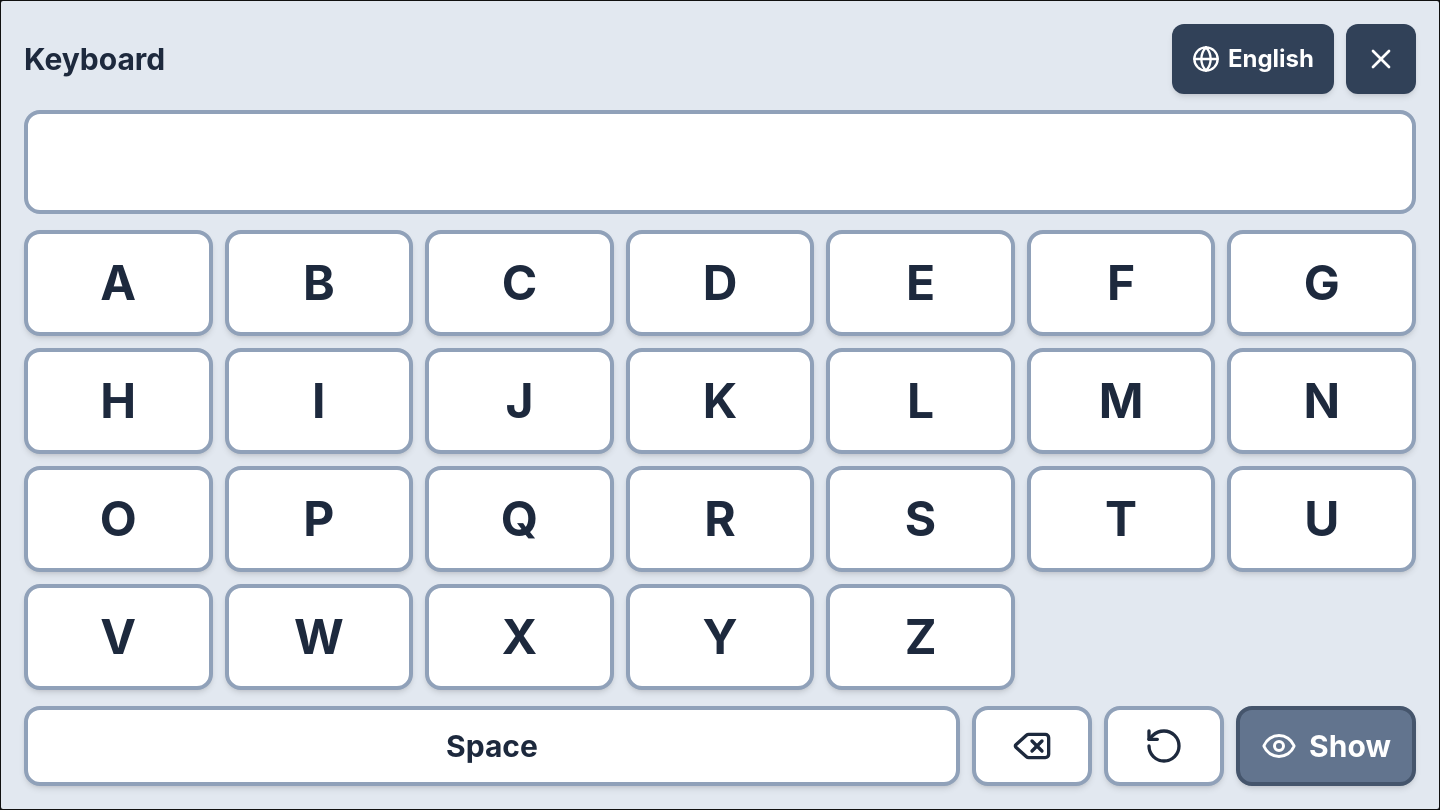
KeyboardScreen – User Story 3: language switcher › switching language replaces the grid and preserves typed text
This screenshot has width=1440, height=810.
Click the button "H" at (118, 401), box [24,348,213,454]
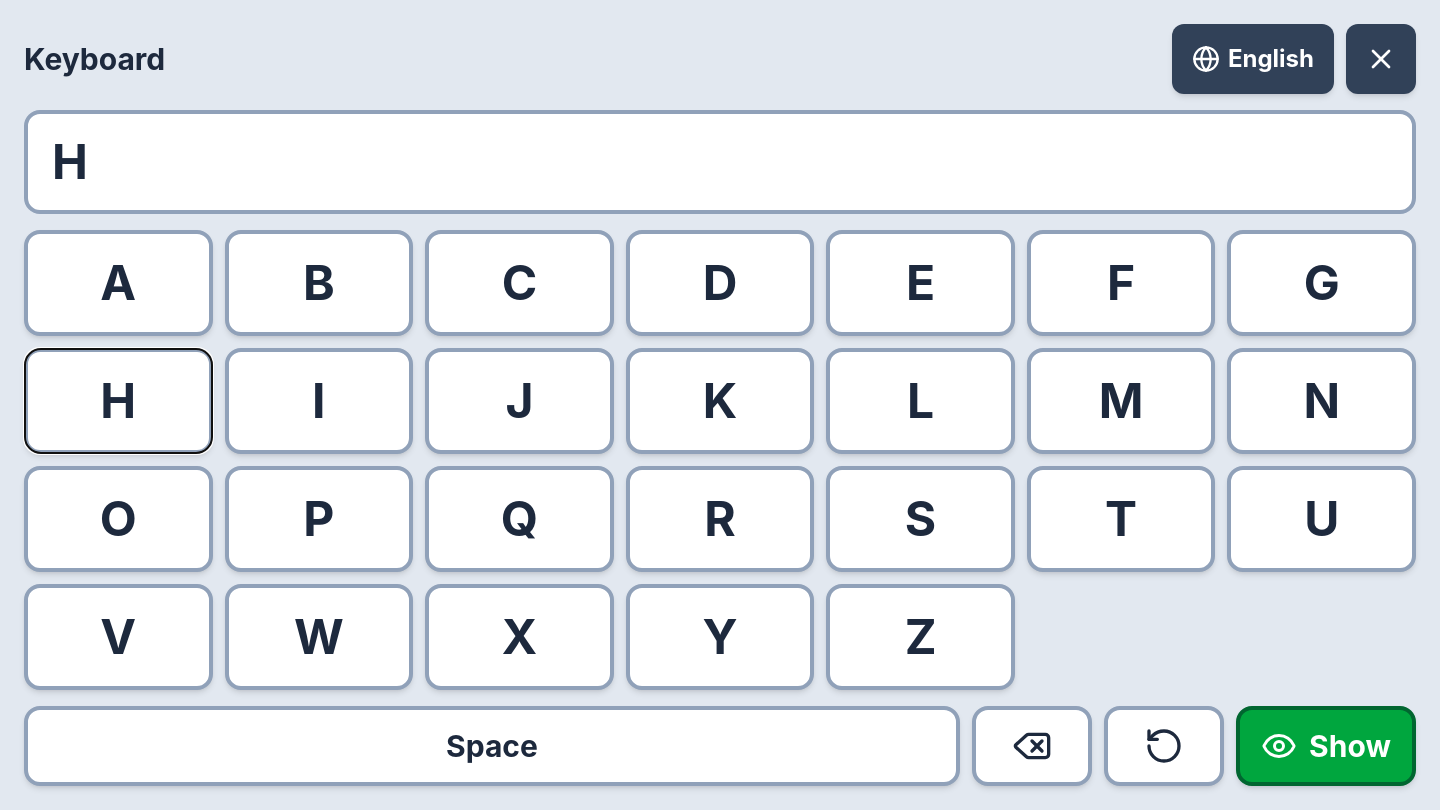
Click the button "I" at (319, 401), box [225,348,413,454]
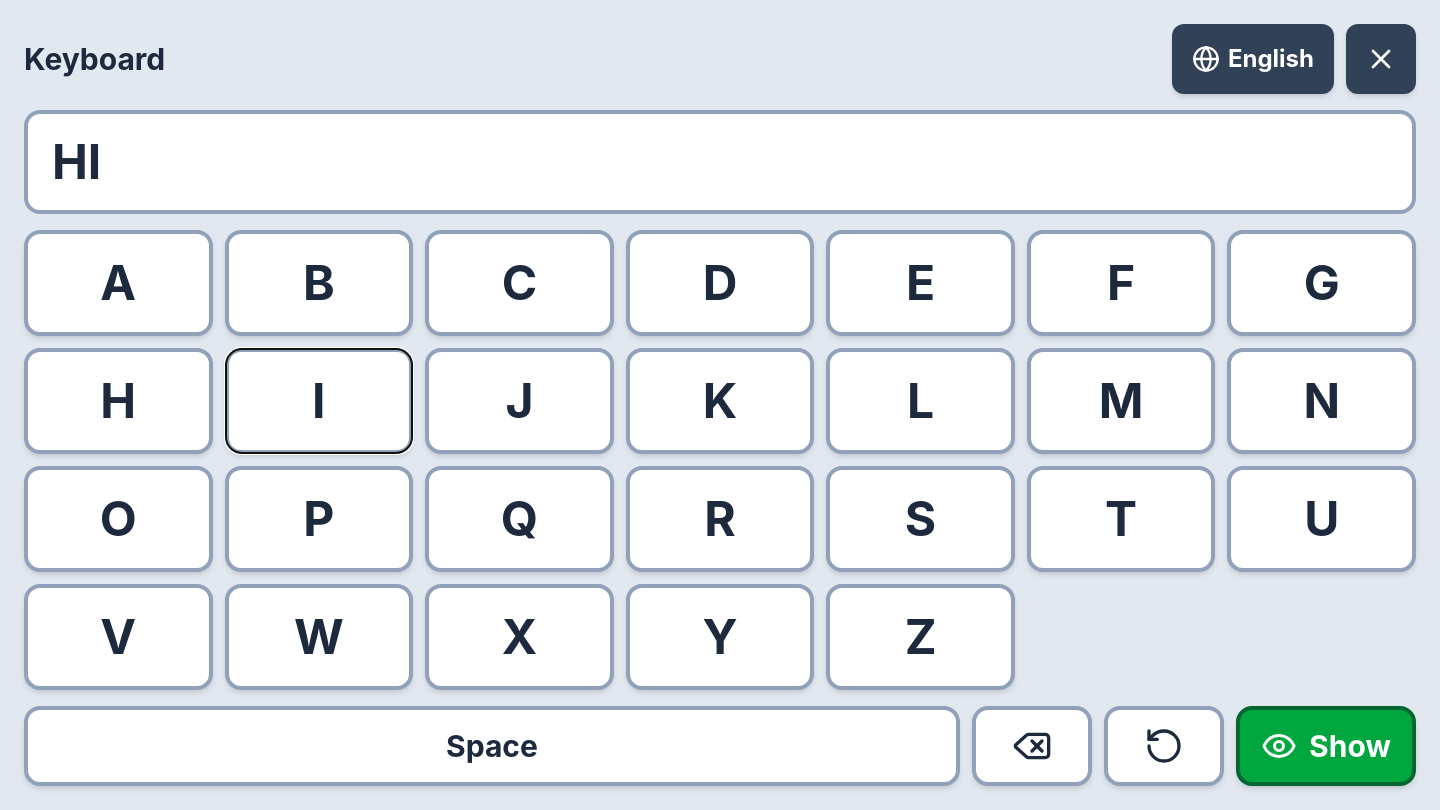
Click the button with aria-label "change language" at (1253, 59), box [1172,24,1334,94]
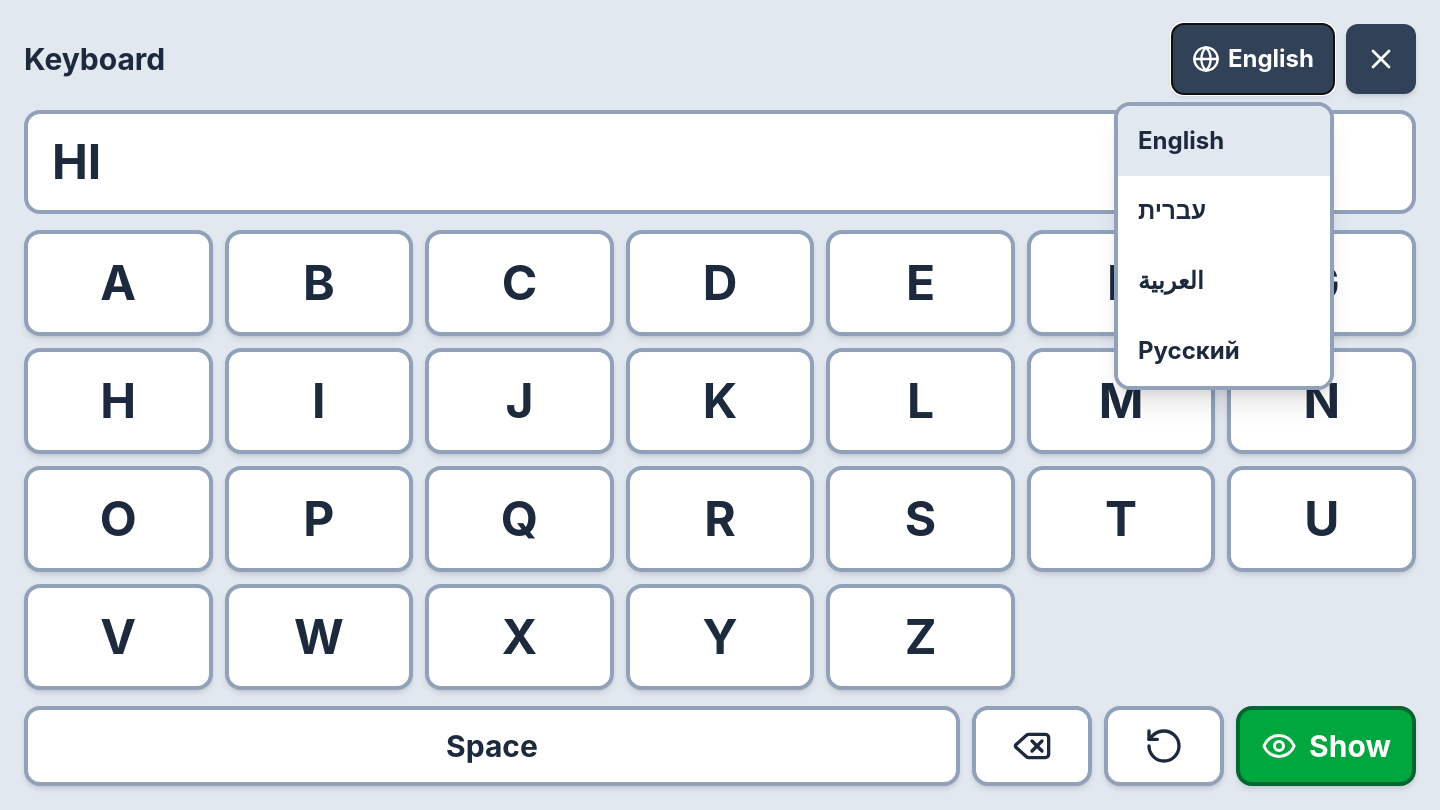
Click the option "עברית" at (1224, 211), box [1118,176,1330,246]
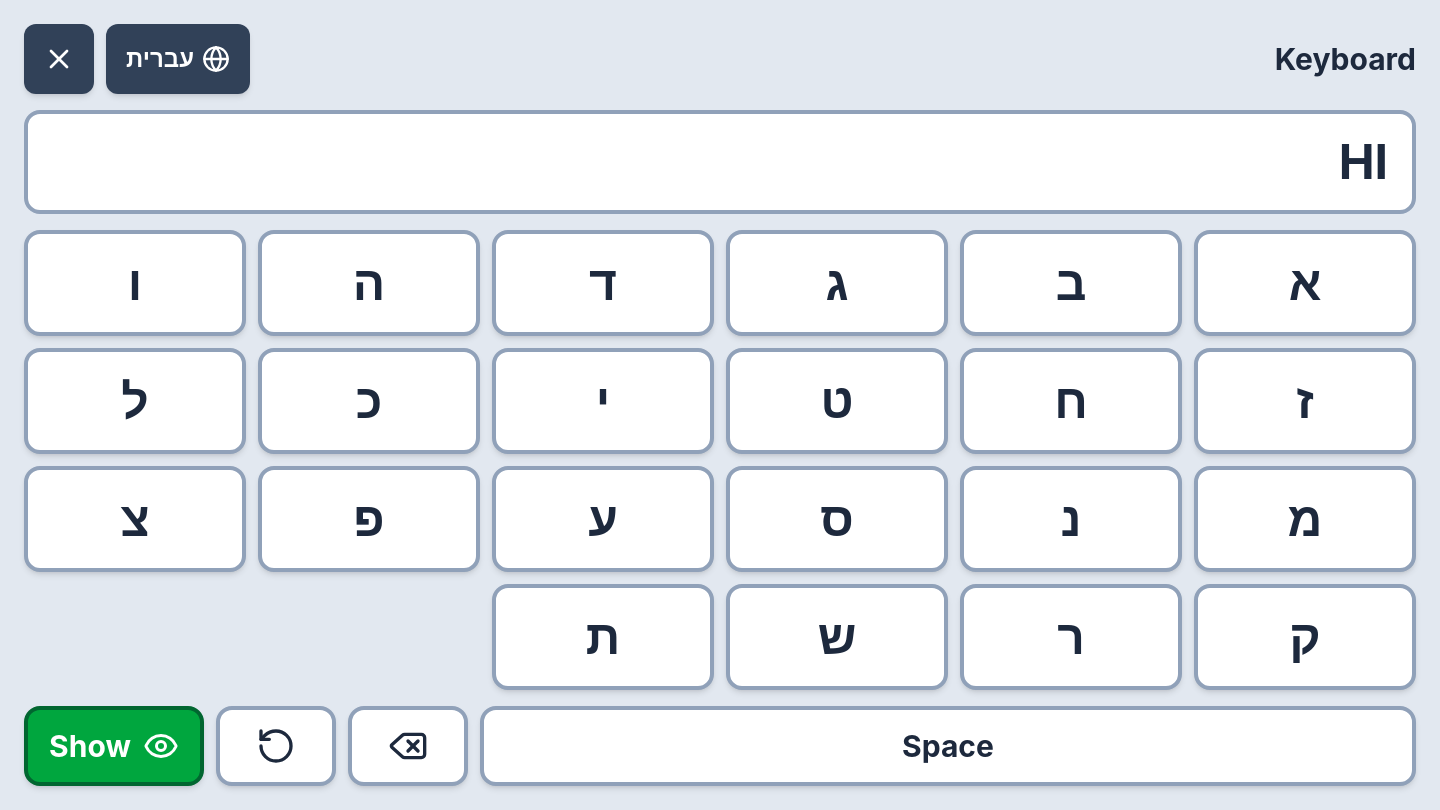
Now the button "א" is shown
Now the button "Q" is gone
Note: New input appends using the Hebrew letter.
Click the button "א" at (1305, 283), box [1194,230,1416,336]
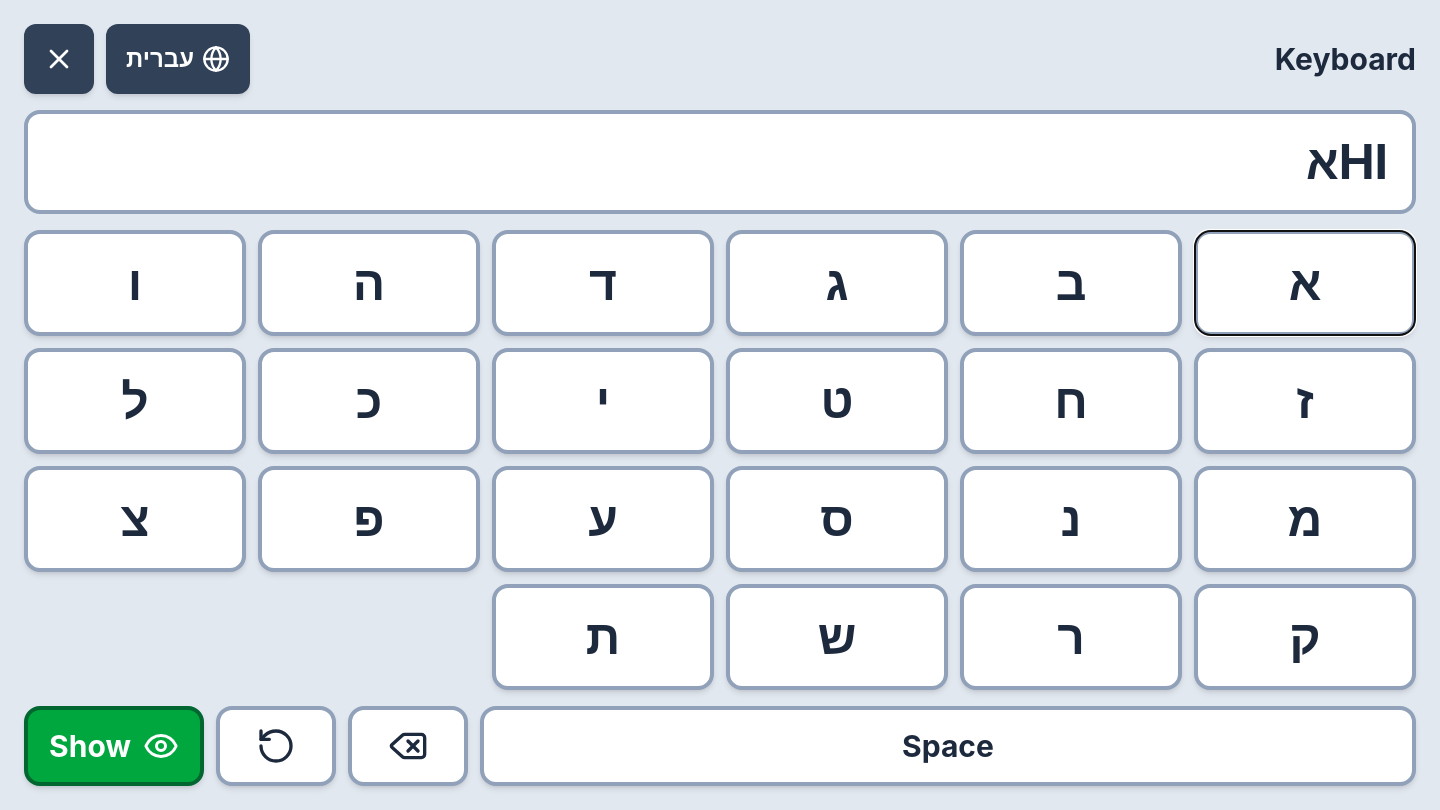
Now the text with test id "keyboard-message" reads "HIא", box [1306,132,1388,191]
